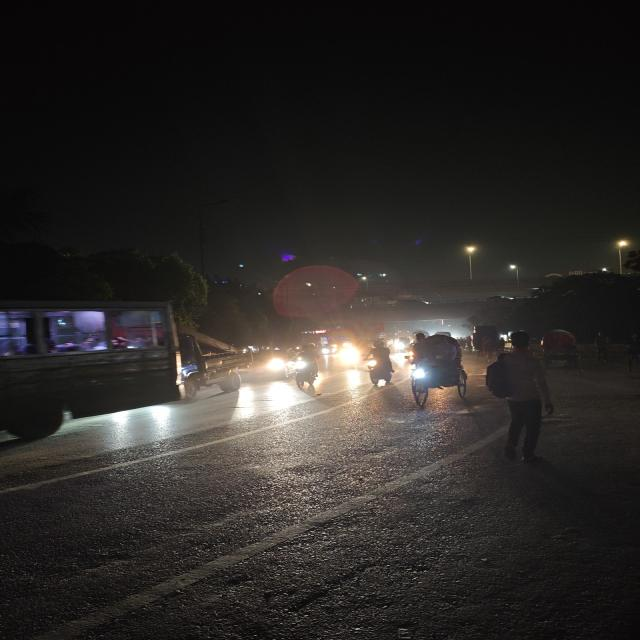bicycle: (290, 347, 324, 395)
pedestrian: (482, 330, 560, 466), (362, 337, 398, 389)
pickup_van: (177, 323, 259, 398)
rickshaw: (402, 329, 472, 415), (538, 327, 586, 369)
